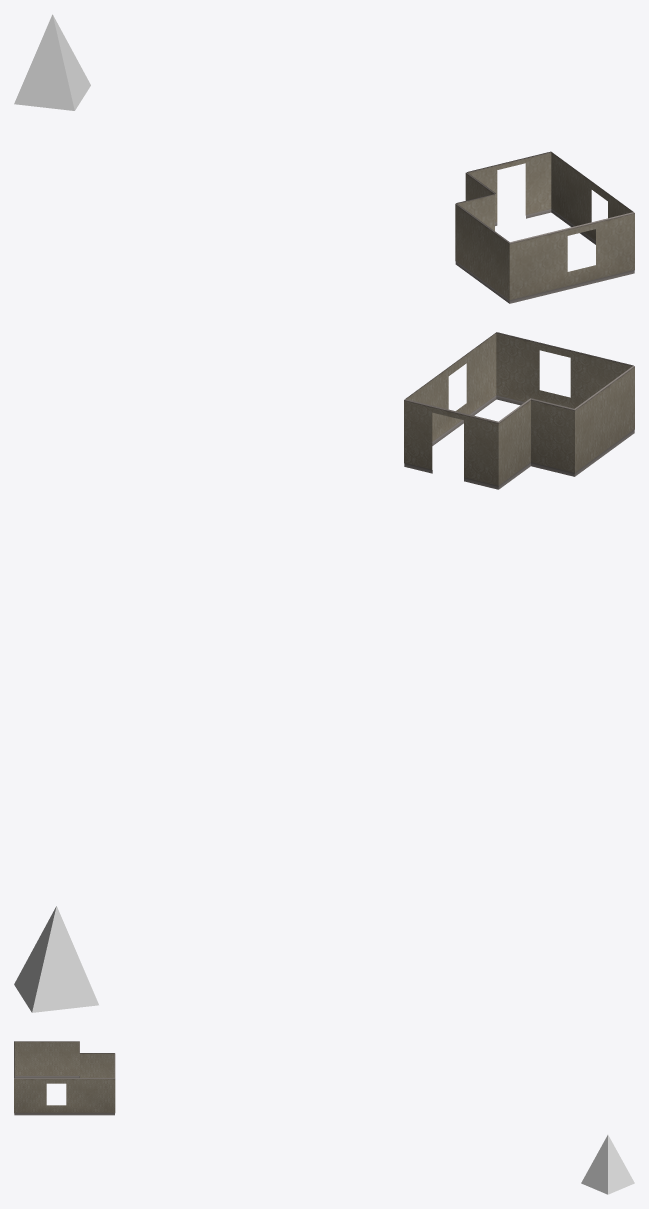
File: SM_playerroomwall.fbx
3 views of the same model, one above another, from view 1: azimuth 30°, elevation 25°; view 2: azimuth 150°, elevation 25°; view 3: azimuth 270°, elevation 25° (orthographic). The views are drawn at different scales.
Visible parts, largest first — view 1: Trim_Bedroom.001, SM_referemcepoint; view 2: Trim_Bedroom.001, SM_referemcepoint; view 3: Trim_Bedroom.001, SM_referemcepoint.
Part boxes in pixels (left/top/right/bottom): Trim_Bedroom.001: left=455, top=151, right=634, bottom=303; SM_referemcepoint: left=14, top=14, right=90, bottom=110; Trim_Bedroom.001: left=404, top=332, right=634, bottom=489; SM_referemcepoint: left=14, top=906, right=98, bottom=1012; Trim_Bedroom.001: left=14, top=1041, right=115, bottom=1115; SM_referemcepoint: left=581, top=1135, right=634, bottom=1194.
Size of the model in its own units: 582 by 3948 by 930.
